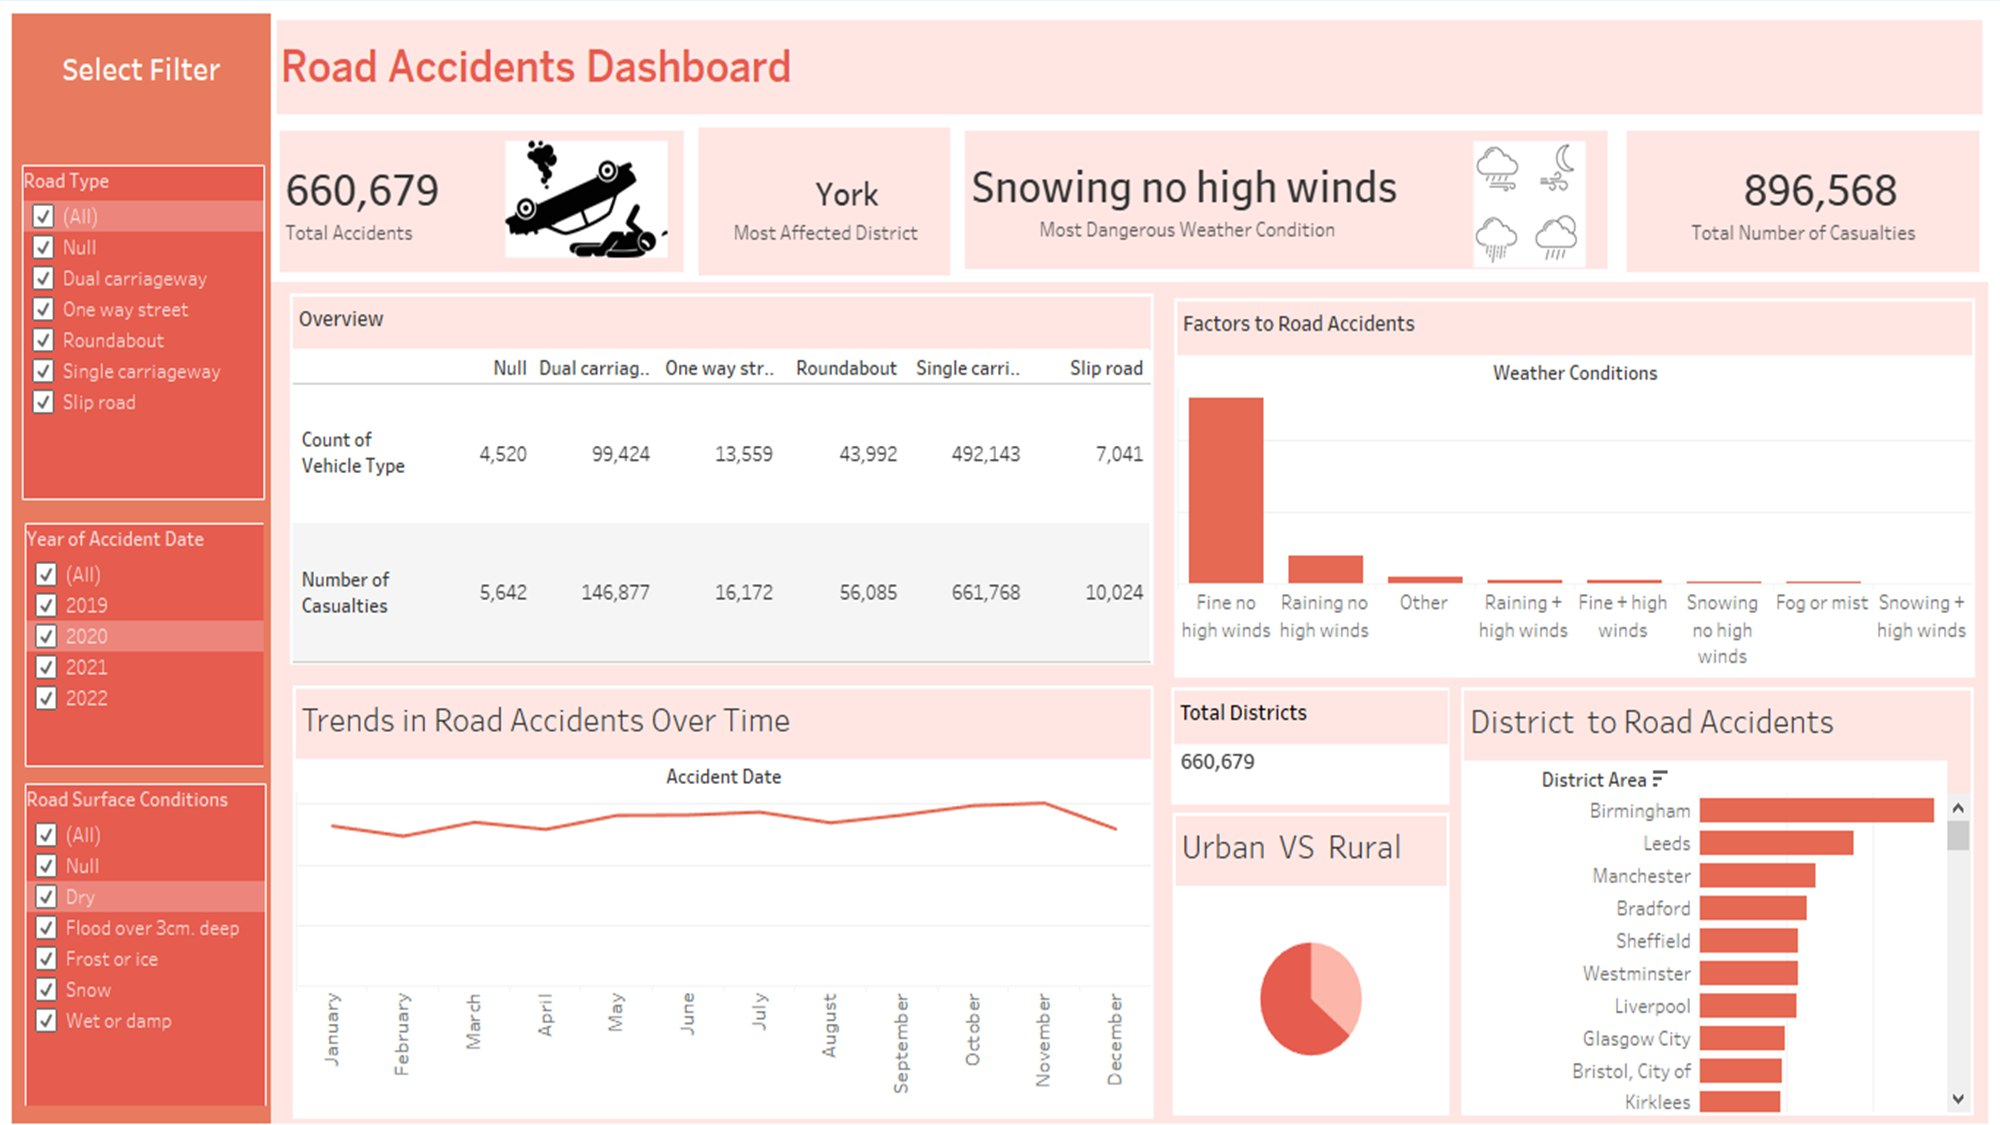

Layout of this report page (visuals, bound fields, positions):
{"tool":"tableau","page":{"name":"Accident Dashboard ","canvas":[1000,1000],"units":"permille","ordinal":0},"visuals":[{"type":"text","box":[7.5,14.5,129.3,119.6]},{"type":"text","box":[136.8,14.5,855.6,93.5]},{"type":"worksheet","title":"Total Accidents","mark":"Text","box":[136.8,108,209.9,141.7]},{"type":"worksheet","title":"Most Affected District","mark":"Text","box":[346.7,108,131.7,141.7]},{"type":"worksheet","title":"Most Dangerous Weather Condition","mark":"Text","box":[478.5,108,329.4,141.7]},{"type":"worksheet","title":"Total Number of Casualties","mark":"Text","box":[807.8,108,184.6,141.7]},{"type":"image","param":"C:/Users/Online/Downloads/car-vehicle-transportation-icon-symbol-image-illustrat","box":[252.6,119.6,81.1,112.3]},{"type":"image","param":"C:/Users/Online/Downloads/weather-forecast-linear-icons-set-vector-28886635.jpg","box":[727.3,123.2,76.2,112.3]},{"type":"blank","box":[7.5,134.1,129.3,550.7]},{"type":"filter","title":"Line KPI","param":"[federated.10xg8hl0jua69o13n9i7n03av9yh].[none:Road_Type:nk]","box":[11.3,144.9,121.6,295.3]},{"type":"worksheet","title":"Line KPI","mark":"Automatic","cols":["Road_Type"],"box":[145.2,257.2,431.7,327.9]},{"type":"worksheet","title":"Factors to Road Accidents","mark":"Bar","rows":["Index"],"cols":["Weather_Conditions"],"box":[587.2,262.7,400.6,333.3]},{"type":"filter","title":"District  to Road Accidents","param":"[federated.10xg8hl0jua69o13n9i7n03av9yh].[yr:Accident Date:ok]","box":[12.2,460.1,119.7,215.6]},{"type":"worksheet","title":"Trends in Road Accidents Over Time","mark":"Automatic","rows":["Index"],"cols":["Accident Date"],"box":[146.1,603.3,430.7,380.4]},{"type":"worksheet","title":"Total Districts","mark":"Text","box":[585.3,605.1,139.5,103.3]},{"type":"worksheet","title":"District  to Road Accidents","mark":"Automatic","rows":["District Area"],"cols":["Index"],"box":[730.4,605.1,256.4,376.8]},{"type":"filter","title":"Trends in Road Accidents Over Time","param":"[federated.10xg8hl0jua69o13n9i7n03av9yh].[none:Road_Surface_Conditions:nk]","box":[12.2,688.4,120.6,284.4]},{"type":"worksheet","title":"Urban  VS  Rural","mark":"Pie","box":[586.2,715.6,138.6,266.3]}]}

Visuals, with their boxes on the dashboard's canvas, which has no fixed pixel size, in thousandths of its width and height (x1, y1, x2, y2). These are canvas units, not pixel positions in the 2000x1125 screenshot, which may show the page scaled, cropped or inside an application window:
text: crop(8, 14, 137, 134)
text: crop(137, 14, 992, 108)
"Total Accidents" worksheet (Text marks): crop(137, 108, 347, 250)
"Most Affected District" worksheet (Text marks): crop(347, 108, 478, 250)
"Most Dangerous Weather Condition" worksheet (Text marks): crop(478, 108, 808, 250)
"Total Number of Casualties" worksheet (Text marks): crop(808, 108, 992, 250)
image: crop(253, 120, 334, 232)
image: crop(727, 123, 804, 236)
blank: crop(8, 134, 137, 685)
"Line KPI" filter: crop(11, 145, 133, 440)
"Line KPI" worksheet: crop(145, 257, 577, 585)
"Factors to Road Accidents" worksheet (Bar marks): crop(587, 263, 988, 596)
"District  to Road Accidents" filter: crop(12, 460, 132, 676)
"Trends in Road Accidents Over Time" worksheet: crop(146, 603, 577, 984)
"Total Districts" worksheet (Text marks): crop(585, 605, 725, 708)
"District  to Road Accidents" worksheet: crop(730, 605, 987, 982)
"Trends in Road Accidents Over Time" filter: crop(12, 688, 133, 973)
"Urban  VS  Rural" worksheet (Pie marks): crop(586, 716, 725, 982)
